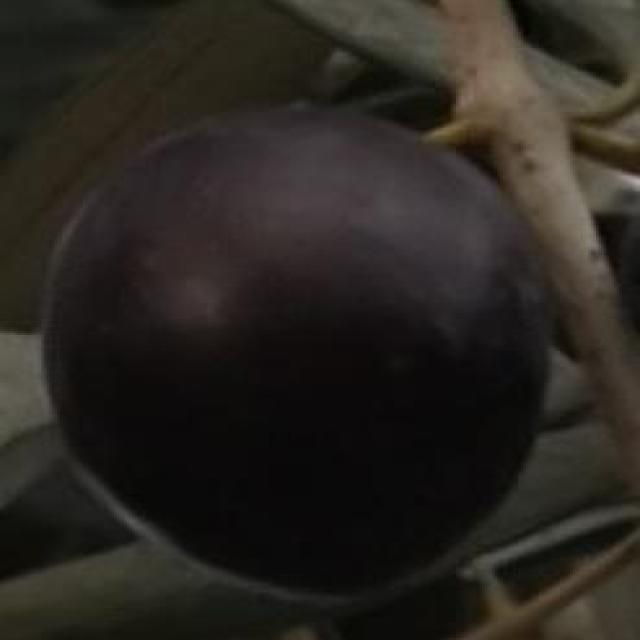Healthy: (44, 110, 547, 604)
